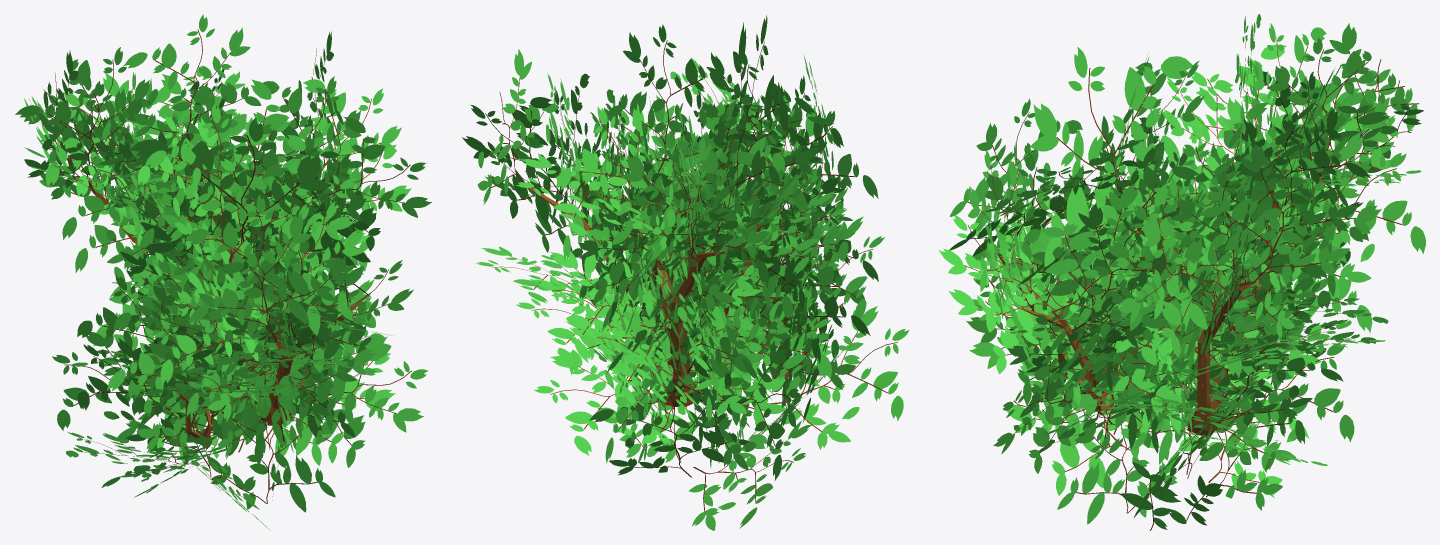
File: bush.fbx
The picture shows the model from 3 angles, left to right: view 1: azimuth 30°, elevation 25°; view 2: azimuth 150°, elevation 25°; view 3: azimuth 270°, elevation 25°; orthographic projection. The views are drawn at different scales.
Visible parts, largest first — view 1: 圓柱體.001; view 2: 圓柱體.001; view 3: 圓柱體.001.
Part boxes in pixels (x1,y1,x2,y2): 圓柱體.001: [15, 14, 431, 530]; 圓柱體.001: [461, 15, 909, 530]; 圓柱體.001: [938, 14, 1425, 530].
Size of the model in its own units: 1077 by 1321 by 1153.
